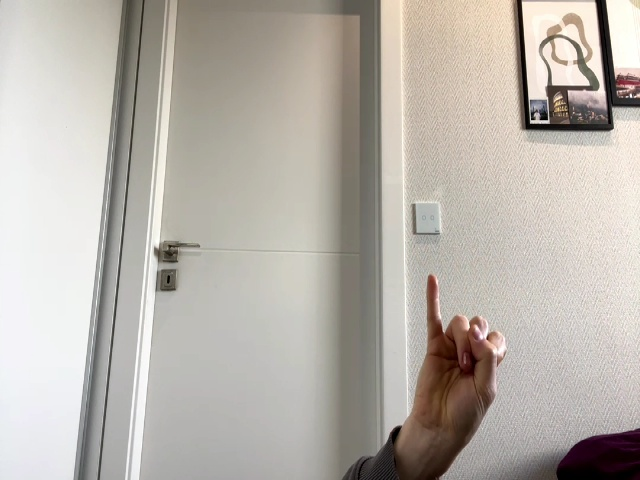I: (415, 275, 507, 442)
